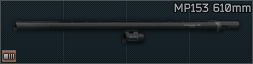MP-153 12ga 610mm barrel: (0, 0, 253, 64)
